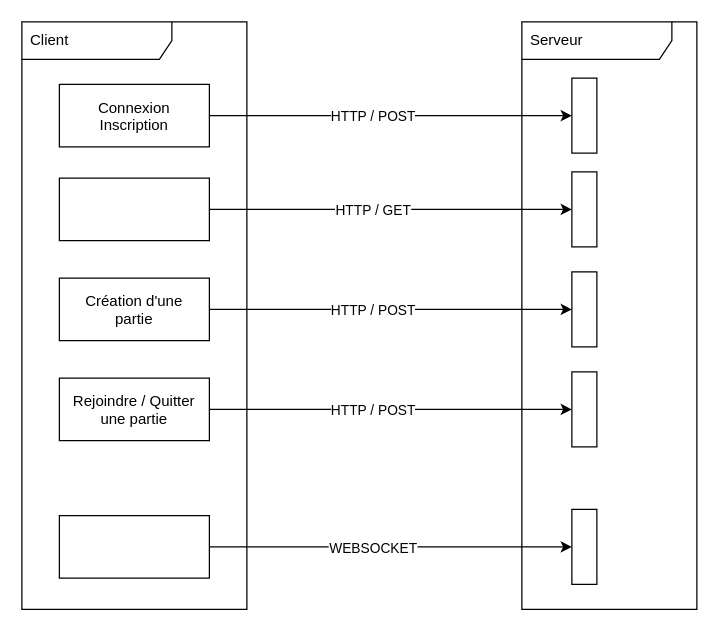
This 719x631 diagram has some shape labels left out. Each missing label, with the centre of its shape:
Liste des parties: the point at 133,209
Toutes actions en jeu: the point at 133,546
